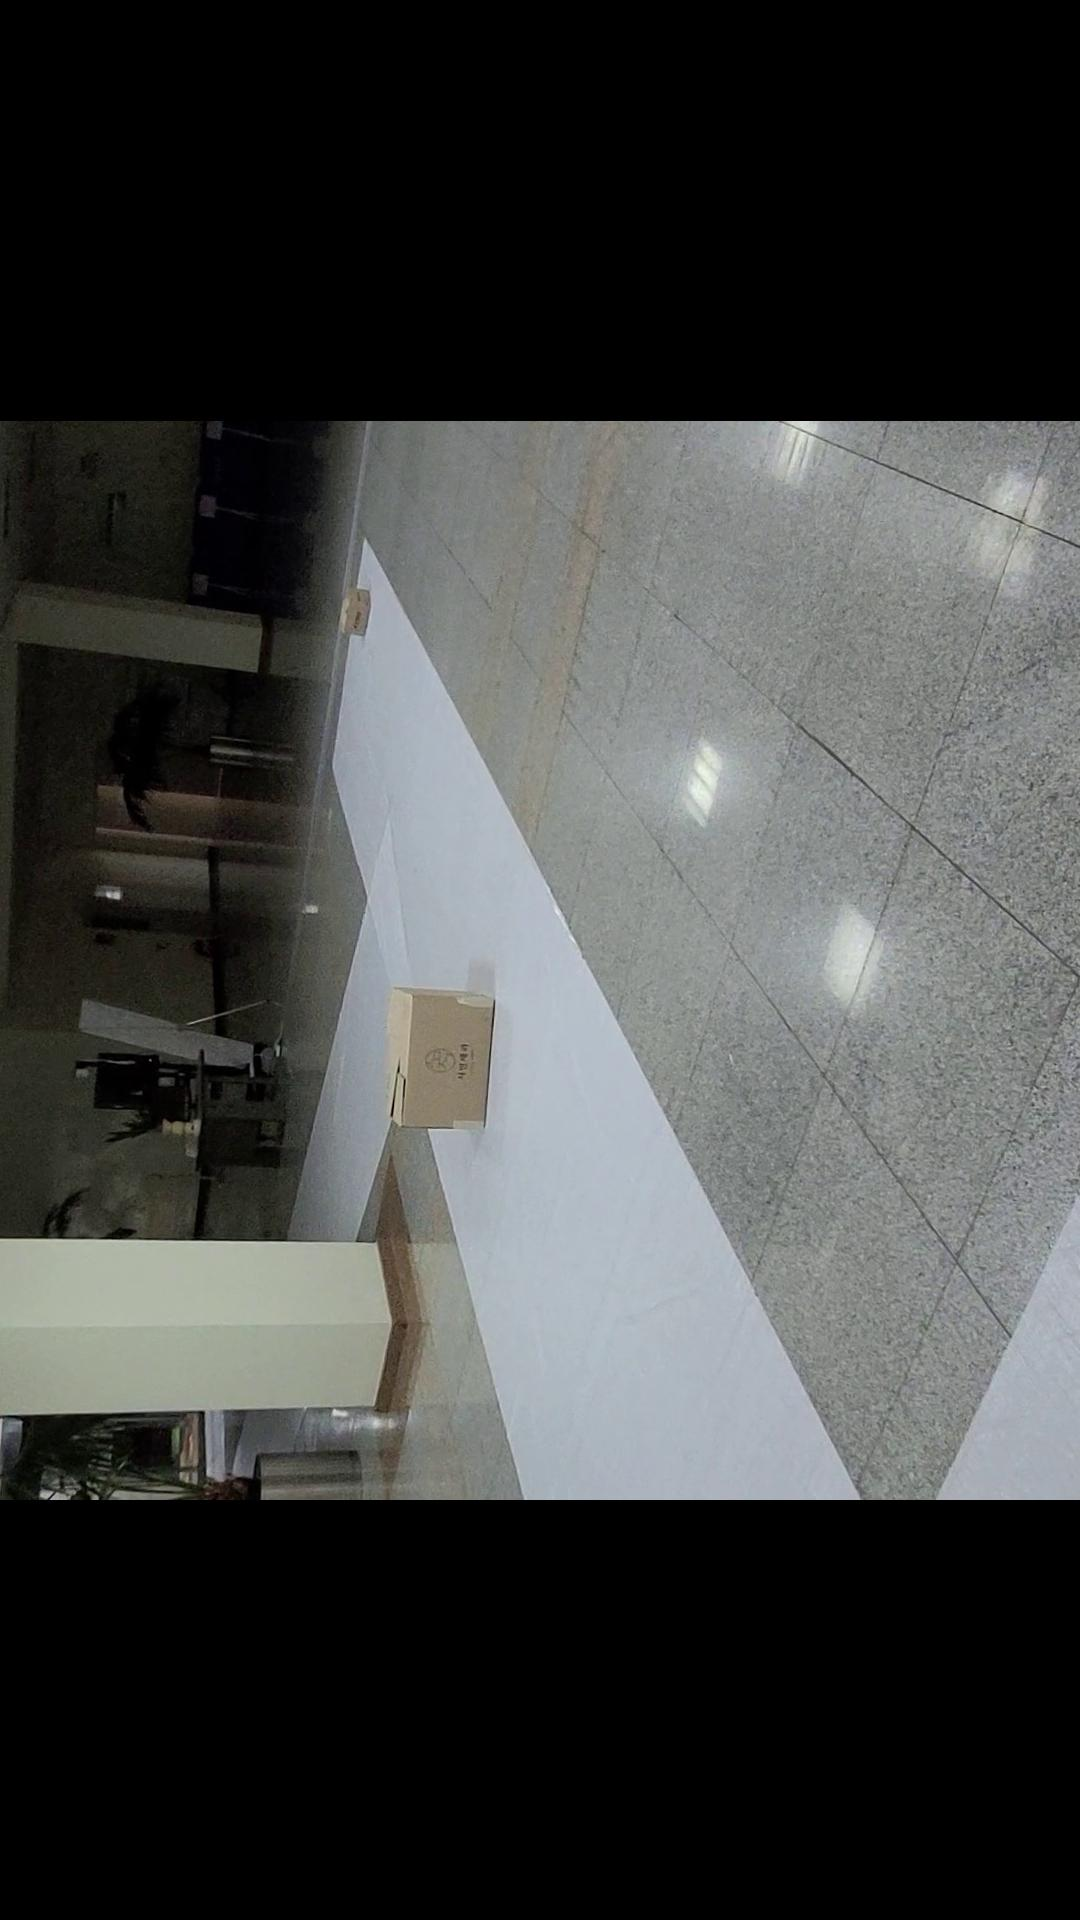Box: (378, 955, 518, 1162), (315, 560, 410, 654)
